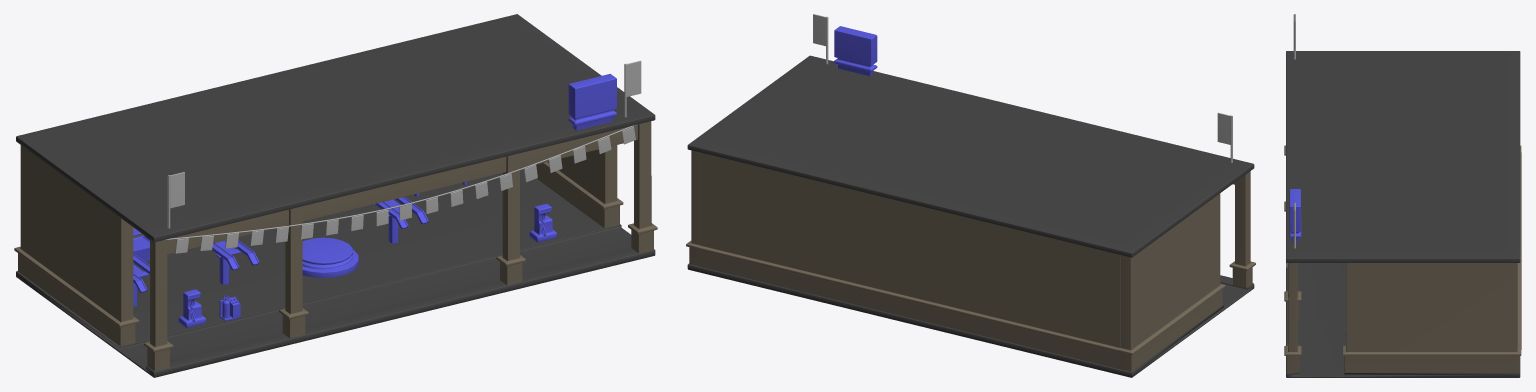
The model's file is autoshop_blockout.fbx.
3 views of the same model, side by side, from view 1: azimuth 30°, elevation 25°; view 2: azimuth 150°, elevation 25°; view 3: azimuth 270°, elevation 25° (orthographic). The views are drawn at different scales.
Visible parts, largest first — view 1: roof, floor, side_wall_01, front_wall, hanging_flags, side_wall_02, column_01, column_04, column_02, sign, column_03, car_display_platform (+7 smaller); view 2: roof, back_wall, side_wall_01, floor, column_01, sign, side_wall_02, flag, flag1; view 3: roof, side_wall_02, floor, column_04, back_wall, sign.
Part boxes in pixels (x1,y1,x2,y2): roof: (16, 14, 655, 242); floor: (16, 169, 655, 377); side_wall_01: (14, 145, 139, 346); front_wall: (167, 125, 637, 254); hanging_flags: (161, 124, 639, 253); side_wall_02: (536, 145, 623, 227); column_01: (144, 240, 173, 371); column_04: (628, 121, 657, 252); column_02: (279, 206, 308, 338); sign: (568, 73, 616, 130); column_03: (496, 153, 526, 285); car_display_platform: (302, 237, 358, 277); roof: (687, 55, 1254, 257); back_wall: (699, 153, 1120, 368); side_wall_01: (1116, 193, 1225, 371); floor: (687, 263, 1254, 377); column_01: (1229, 171, 1255, 288); sign: (834, 26, 877, 76); side_wall_02: (686, 150, 704, 266); flag: (813, 14, 828, 64); flag1: (1217, 112, 1232, 162); roof: (1286, 51, 1520, 262); side_wall_02: (1342, 263, 1521, 372); floor: (1286, 263, 1520, 377); column_04: (1284, 263, 1301, 372); back_wall: (1517, 152, 1521, 366); sign: (1289, 189, 1301, 242).
Size of the model in its own units: 84.05 by 30.94 by 40.35.
